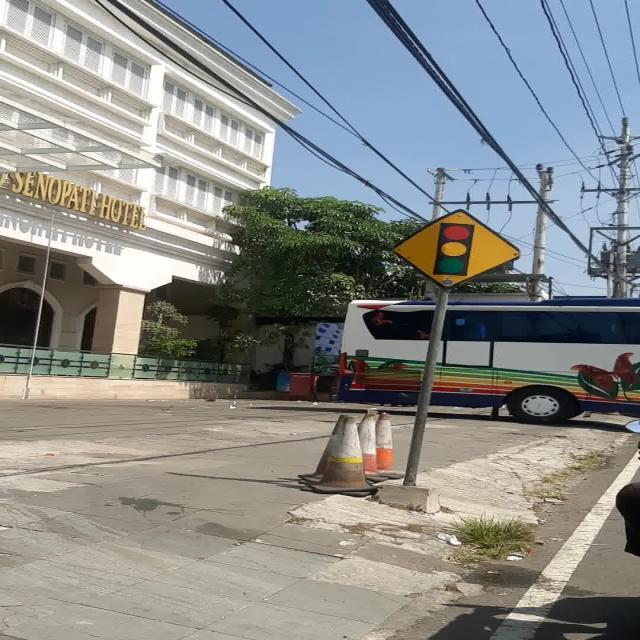Lampu Lalu Lintas: (392, 209, 520, 289)
